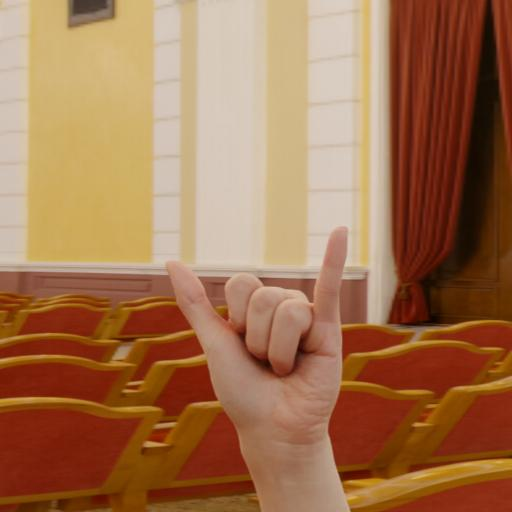Y: (150, 215, 380, 470)
